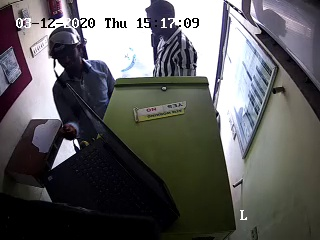helmet: (40, 25, 94, 76)
